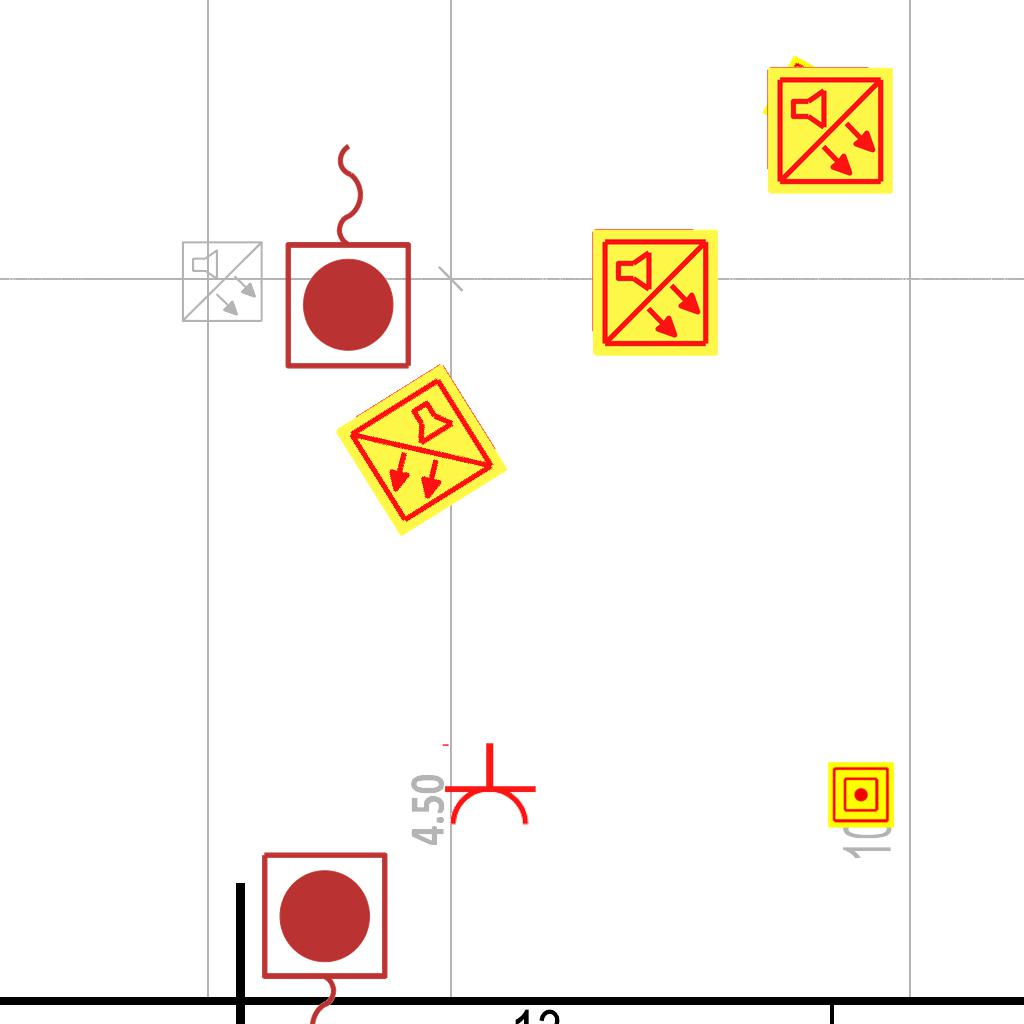NAM-Nichtautomatischer_Melder: (762, 55, 852, 145), (828, 762, 894, 828)
OKW_Multisensormelder_(Kombination_optischer_Rauch-Kahlenmonoxid_Waerme-Melder): (330, 359, 512, 541), (589, 227, 721, 359), (764, 65, 896, 197)
Schukosteckdose_einfach: (438, 741, 538, 828)
Zugtaster: (278, 133, 422, 377), (251, 844, 395, 1024)
